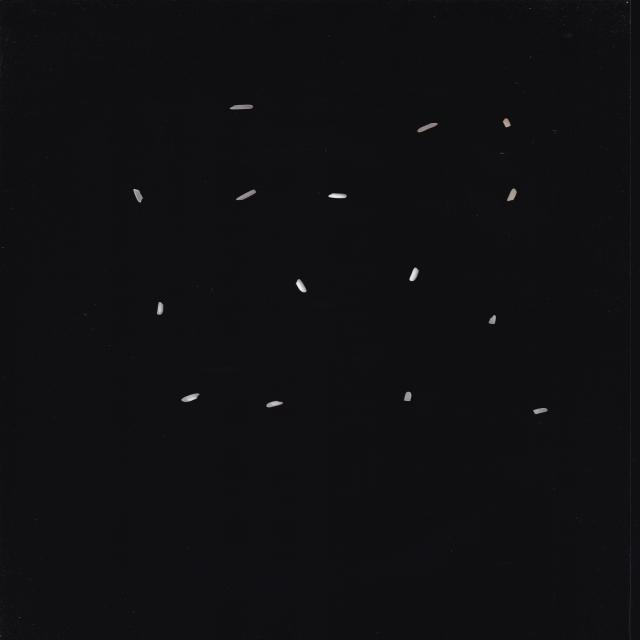Chalky: (181, 392, 200, 402), (266, 400, 284, 408), (156, 302, 164, 315)
Not: (236, 189, 256, 201), (417, 122, 438, 132), (296, 278, 307, 292), (133, 188, 144, 202), (409, 267, 419, 282), (229, 104, 254, 110), (507, 188, 517, 202), (328, 193, 348, 198), (533, 408, 548, 414), (403, 392, 412, 402), (503, 118, 511, 128), (488, 315, 496, 324)
